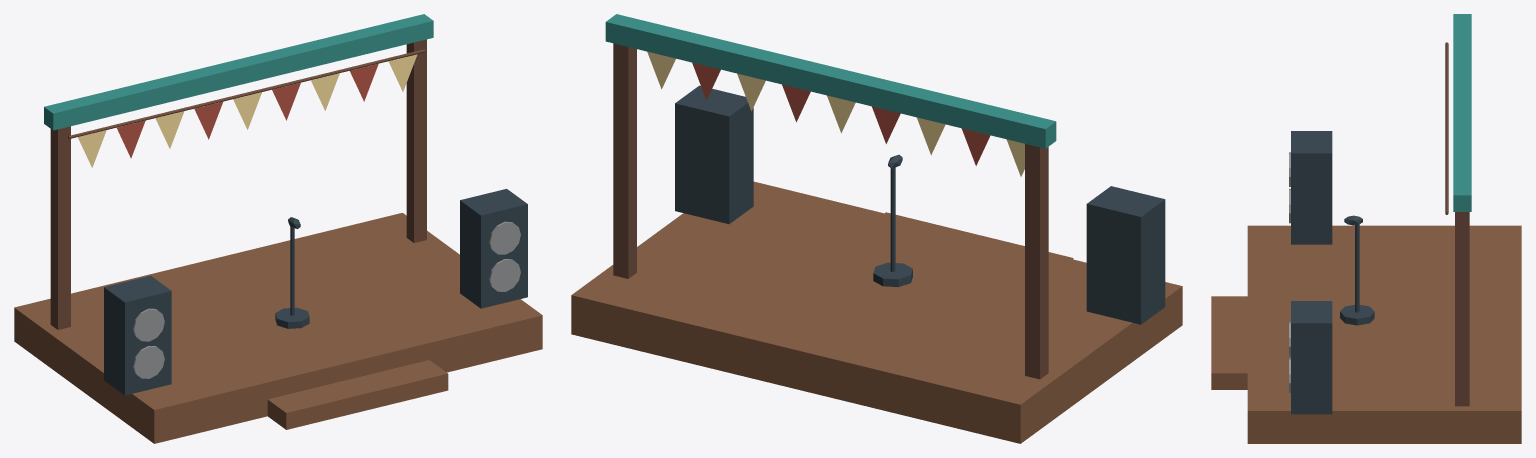
The model's file is mayor_stage.glb.
3 views of the same model, side by side, from view 1: azimuth 30°, elevation 25°; view 2: azimuth 150°, elevation 25°; view 3: azimuth 270°, elevation 25° (orthographic). The views are drawn at different scales.
Parts seen in each view (by area): view 1: platform, top_beam, step, speaker, speaker.001, stage_post, stage_post.001, bunting_cord, speaker_cone.003, speaker_cone.001, speaker_cone.002, speaker_cone (+10 smaller); view 2: platform, top_beam, speaker, speaker.001, stage_post, stage_post.001, mic_base, mic_stand; view 3: platform, speaker, speaker.001, top_beam, step, stage_post.001, bunting_cord, mic_base, mic_stand.
Part boxes in pixels (<box>): platform: <box>14,213,542,443</box>; top_beam: <box>44,14,433,130</box>; step: <box>267,360,448,429</box>; speaker: <box>104,275,171,395</box>; speaker.001: <box>460,189,527,308</box>; stage_post: <box>50,126,70,329</box>; stage_post.001: <box>406,39,426,242</box>; bunting_cord: <box>68,49,425,138</box>; speaker_cone.003: <box>489,221,520,254</box>; speaker_cone.001: <box>133,308,164,341</box>; speaker_cone.002: <box>489,259,520,291</box>; speaker_cone: <box>133,346,164,378</box>; platform: <box>571,181,1182,443</box>; top_beam: <box>605,14,1056,148</box>; speaker: <box>1086,186,1165,324</box>; speaker.001: <box>675,85,753,224</box>; stage_post: <box>1025,144,1048,379</box>; stage_post.001: <box>613,43,636,278</box>; mic_base: <box>873,262,912,287</box>; mic_stand: <box>890,167,895,271</box>; platform: <box>1247,225,1521,443</box>; speaker: <box>1291,131,1332,244</box>; speaker.001: <box>1291,301,1332,414</box>; top_beam: <box>1453,14,1471,211</box>; step: <box>1211,296,1247,389</box>; stage_post.001: <box>1455,212,1469,406</box>; bunting_cord: <box>1445,42,1448,214</box>; mic_base: <box>1340,304,1374,325</box>; mic_stand: <box>1355,224,1359,312</box>.
Size of the model in its own units: 4.98 by 2.98 by 3.4.
